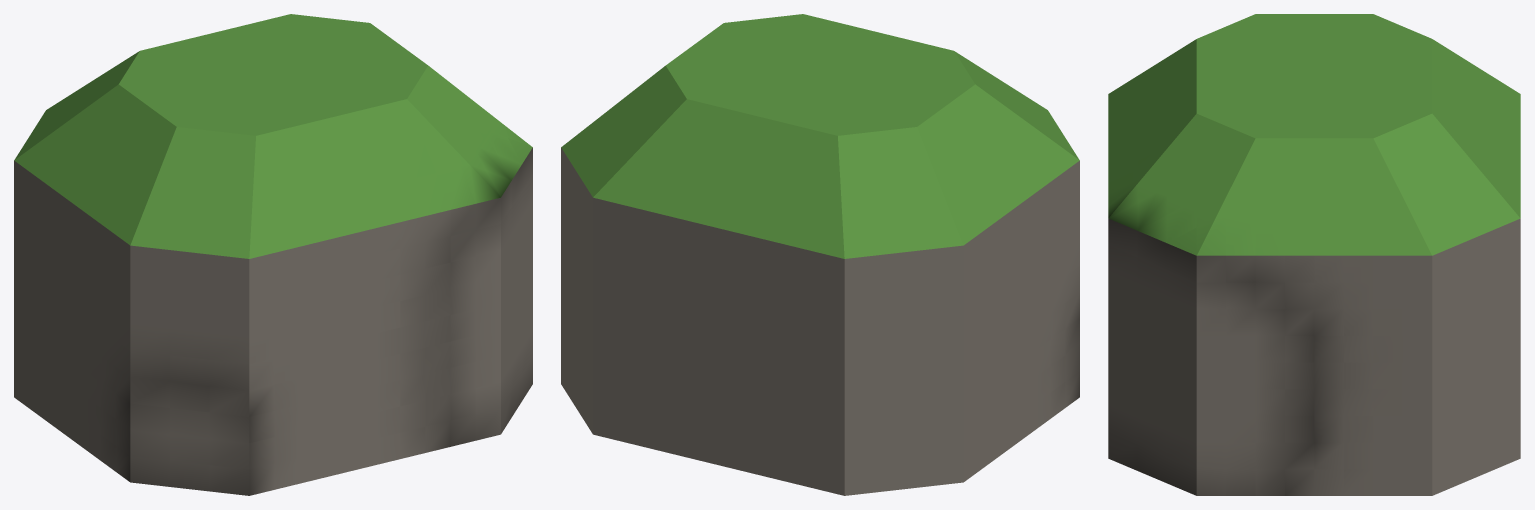
Rendered from MossyRock.fbx.
The picture shows the model from 3 angles, left to right: view 1: azimuth 30°, elevation 25°; view 2: azimuth 150°, elevation 25°; view 3: azimuth 270°, elevation 25°; orthographic projection.
Parts seen in each view (by area): view 1: Boulder; view 2: Boulder; view 3: Boulder.
Part boxes in pixels (bbox=[...]): Boulder: bbox=[14, 14, 532, 495]; Boulder: bbox=[561, 14, 1079, 495]; Boulder: bbox=[1108, 14, 1520, 495].
Bounding box in the file's own units: 160 × 121 × 140.
